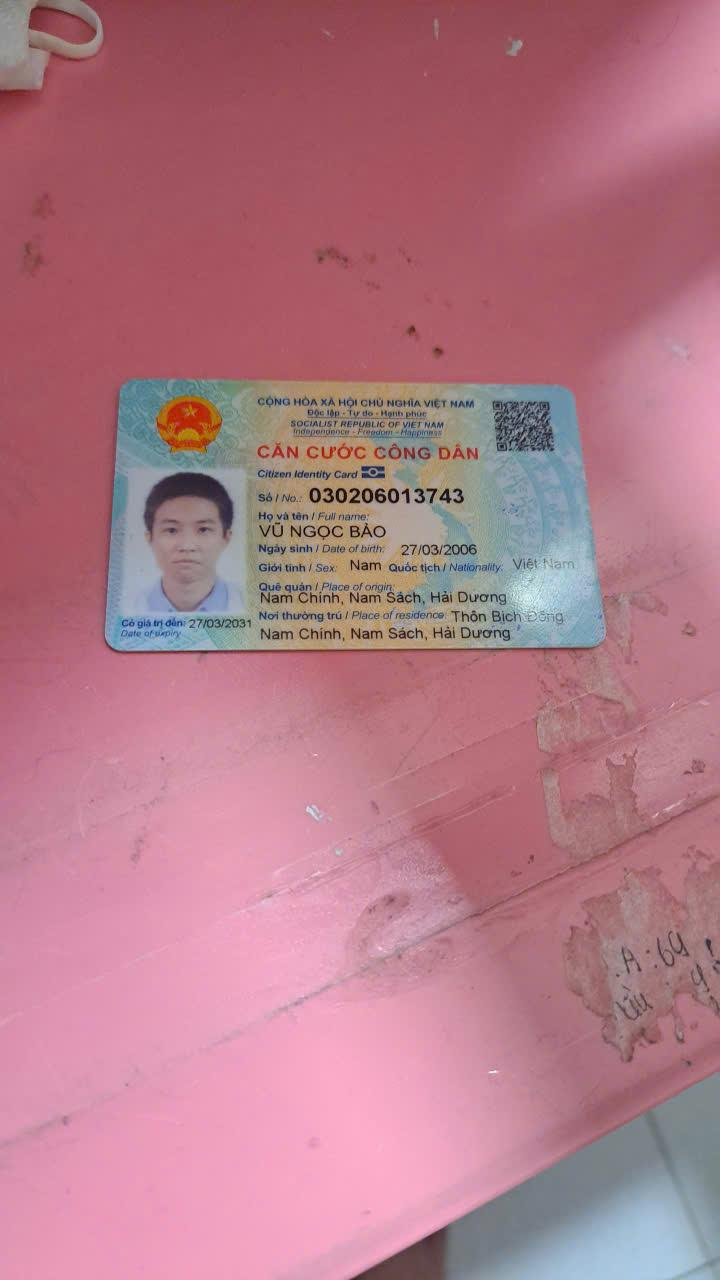cccd: (100, 373, 616, 657)
